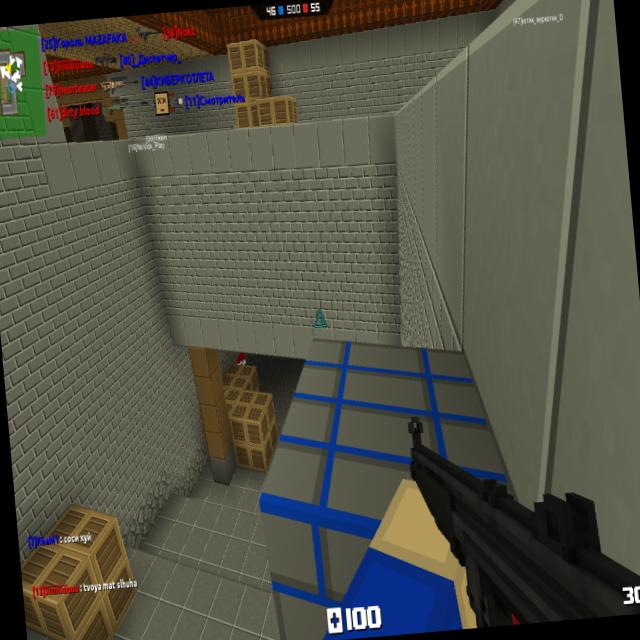enemy: (236, 350, 247, 366)
